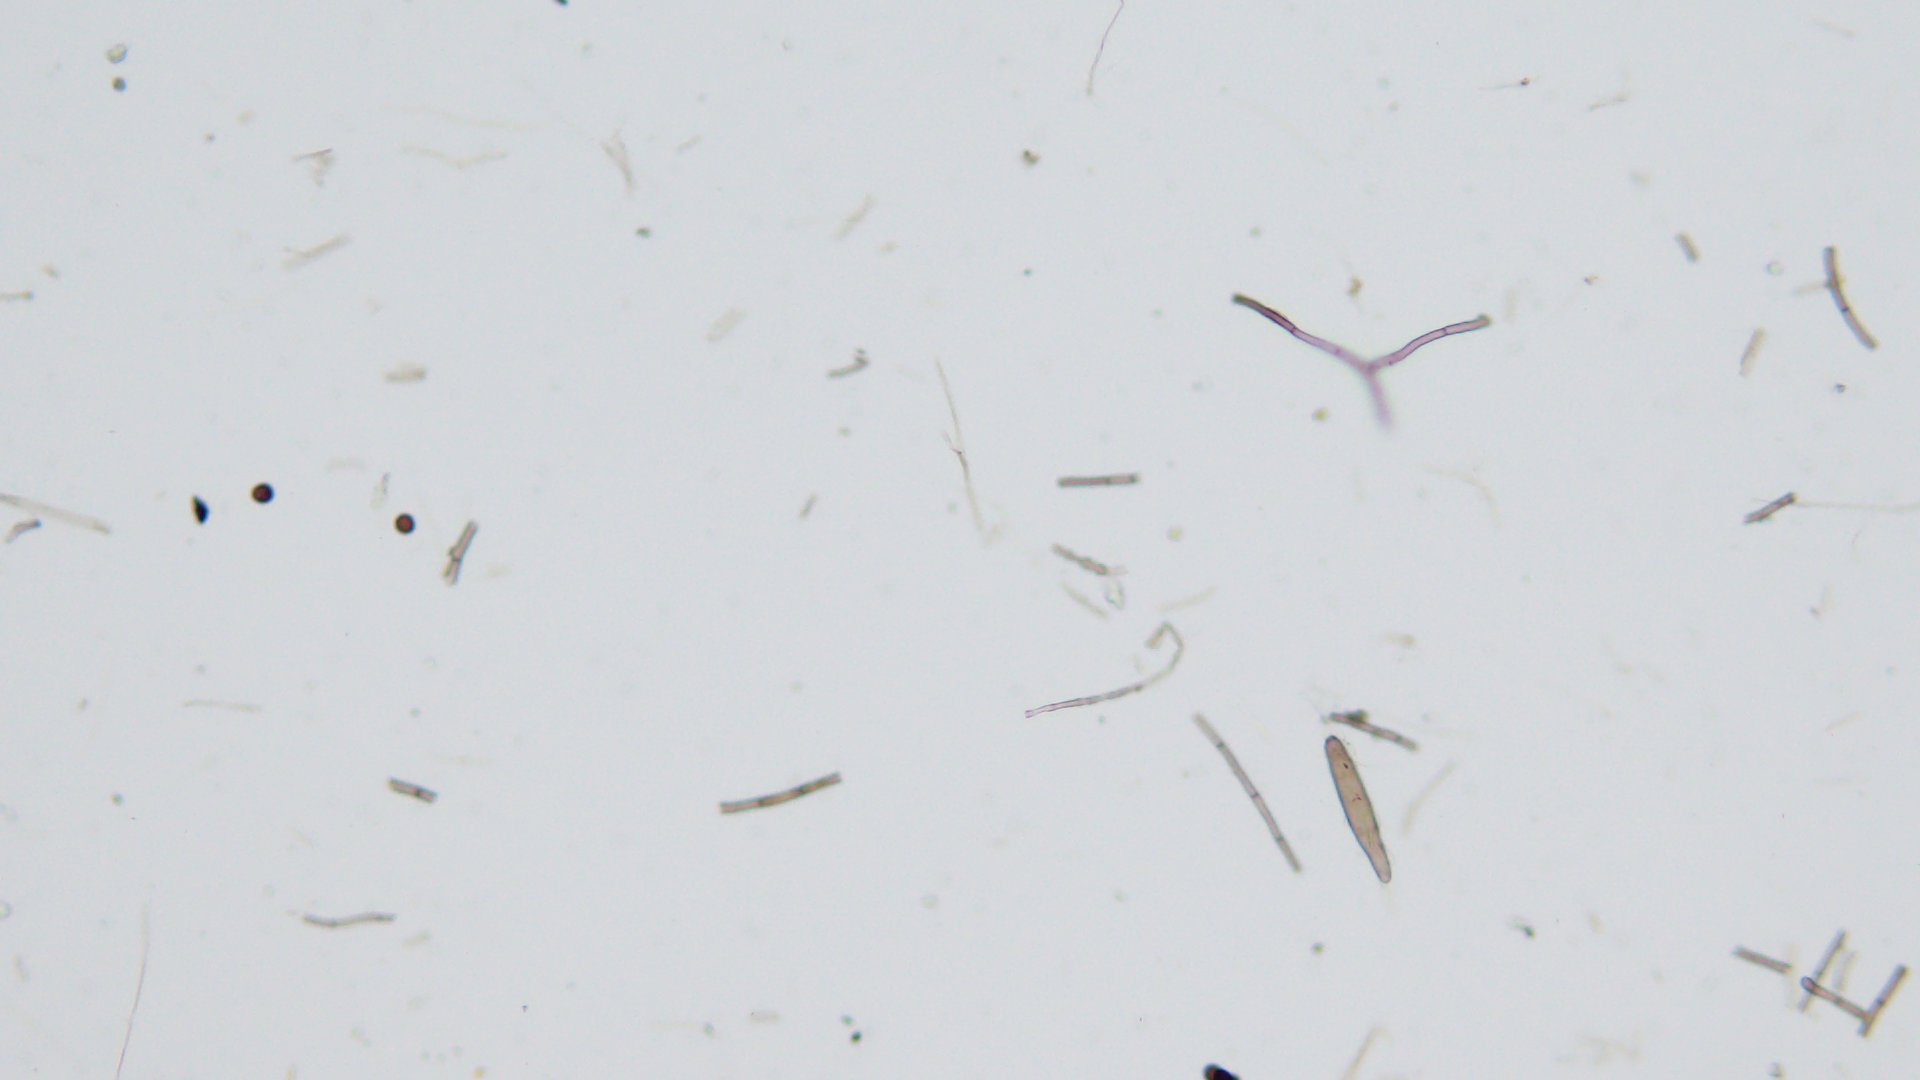dbb_spore: (1320, 736, 1393, 884)
shs_spore: (251, 483, 276, 506), (392, 513, 417, 534)
